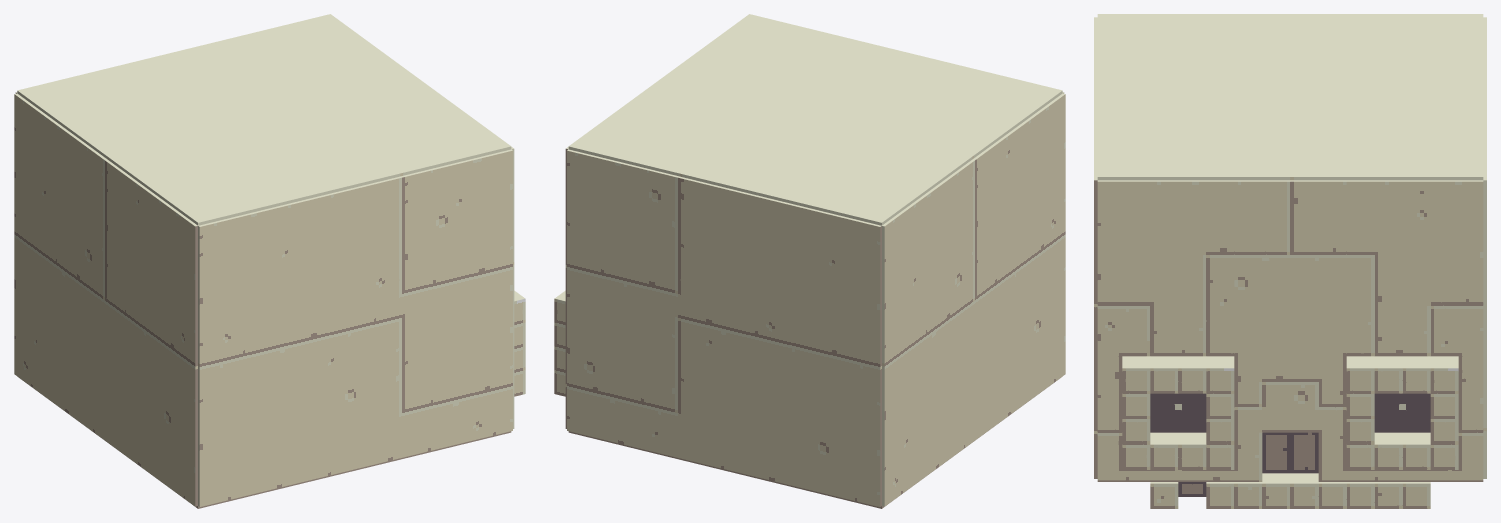
Rendered from deathskull_aao.fezao.glb.
3 views of the same model, side by side, from view 1: azimuth 30°, elevation 25°; view 2: azimuth 150°, elevation 25°; view 3: azimuth 270°, elevation 25° (orthographic). The views are drawn at different scales.
Parts seen in each view (by area): view 1: DEATHSKULL_AAO; view 2: DEATHSKULL_AAO; view 3: DEATHSKULL_AAO.
Part boxes in pixels (x1=…): DEATHSKULL_AAO: x1=14, y1=14, x2=525, y2=508; DEATHSKULL_AAO: x1=554, y1=14, x2=1065, y2=508; DEATHSKULL_AAO: x1=1094, y1=14, x2=1486, y2=508.
Bounding box in the file's own units: 7.5 × 6.5 × 7.
Materials: 1 (1 with a texture image).
